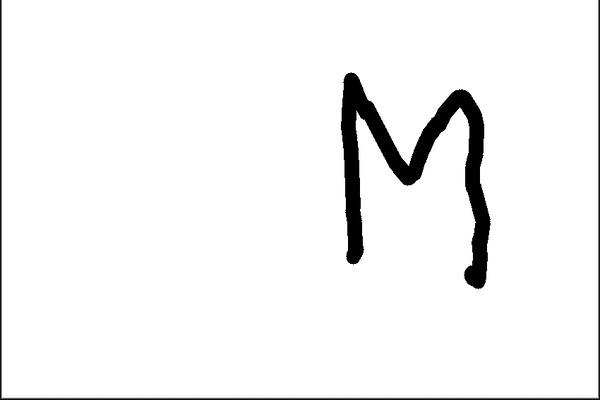M: (332, 68, 492, 291)
